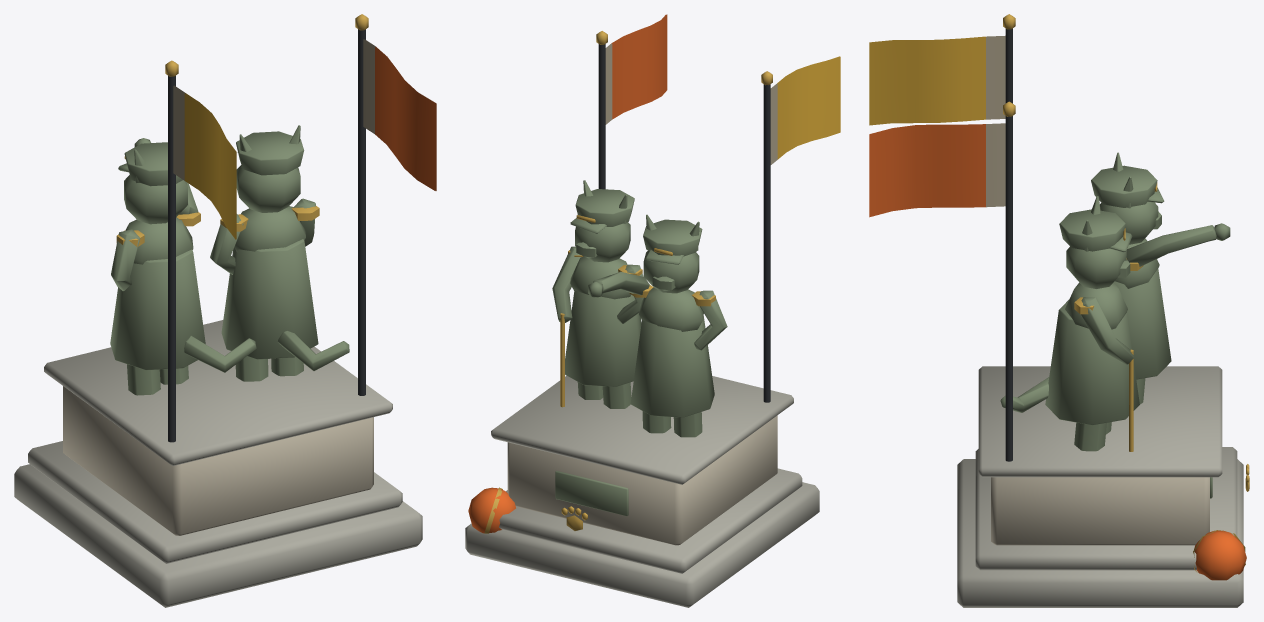
File: concrete_statue.glb
The picture shows the model from 3 angles, left to right: view 1: azimuth 30°, elevation 25°; view 2: azimuth 150°, elevation 25°; view 3: azimuth 270°, elevation 25°; orthographic projection. The views are drawn at different scales.
Visible parts, largest first — view 1: concrete_statue; view 2: concrete_statue; view 3: concrete_statue.
Boxes of the visible parts, x1,y1,x2,y2 form: concrete_statue: (14, 14, 436, 607); concrete_statue: (465, 14, 840, 607); concrete_statue: (869, 14, 1249, 607).
Size of the model in its own units: 0.9465 by 1.78 by 1.25.
1 material, 1 textured.
